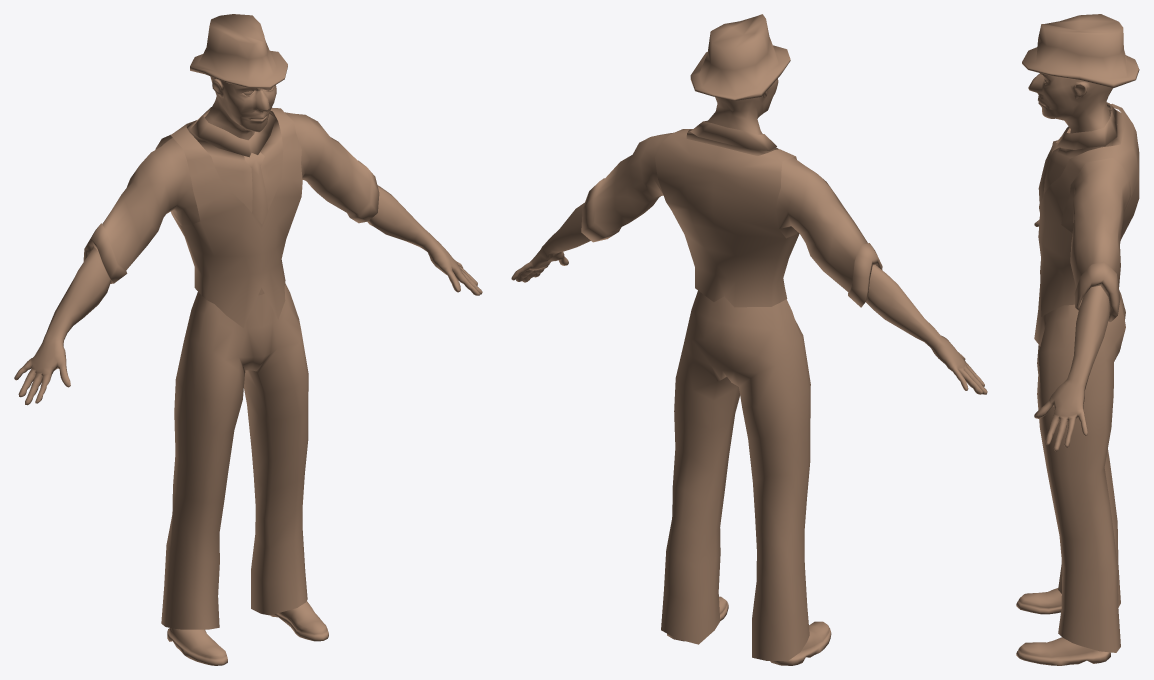
The model's file is Guard_01.FBX.
The picture shows the model from 3 angles, left to right: view 1: azimuth 30°, elevation 25°; view 2: azimuth 150°, elevation 25°; view 3: azimuth 270°, elevation 25°; orthographic projection.
Parts seen in each view (by area): view 1: Hose, Hemd, Weste, Guard001, Hut, Krawatte; view 2: Hose, Weste, Hemd, Guard001, Hut; view 3: Hose, Guard001, Hemd, Weste, Hut, Krawatte.
Boxes of the visible parts, x1,y1,x2,y2 form: Hose: (161,283,308,629); Hemd: (83,107,379,295); Weste: (155,107,302,327); Guard001: (14,76,482,665); Hut: (190,14,287,88); Krawatte: (244,152,267,294); Hose: (661,290,810,661); Weste: (655,129,799,307); Hemd: (581,120,882,307); Guard001: (511,78,987,665); Hut: (690,14,790,100); Hose: (1034,284,1125,652); Guard001: (1016,73,1112,665); Hemd: (1043,102,1130,321); Weste: (1038,103,1139,316); Hut: (1022,14,1139,87); Krawatte: (1038,140,1058,204).
Size of the model in its own units: 137 by 172 by 31.5.
